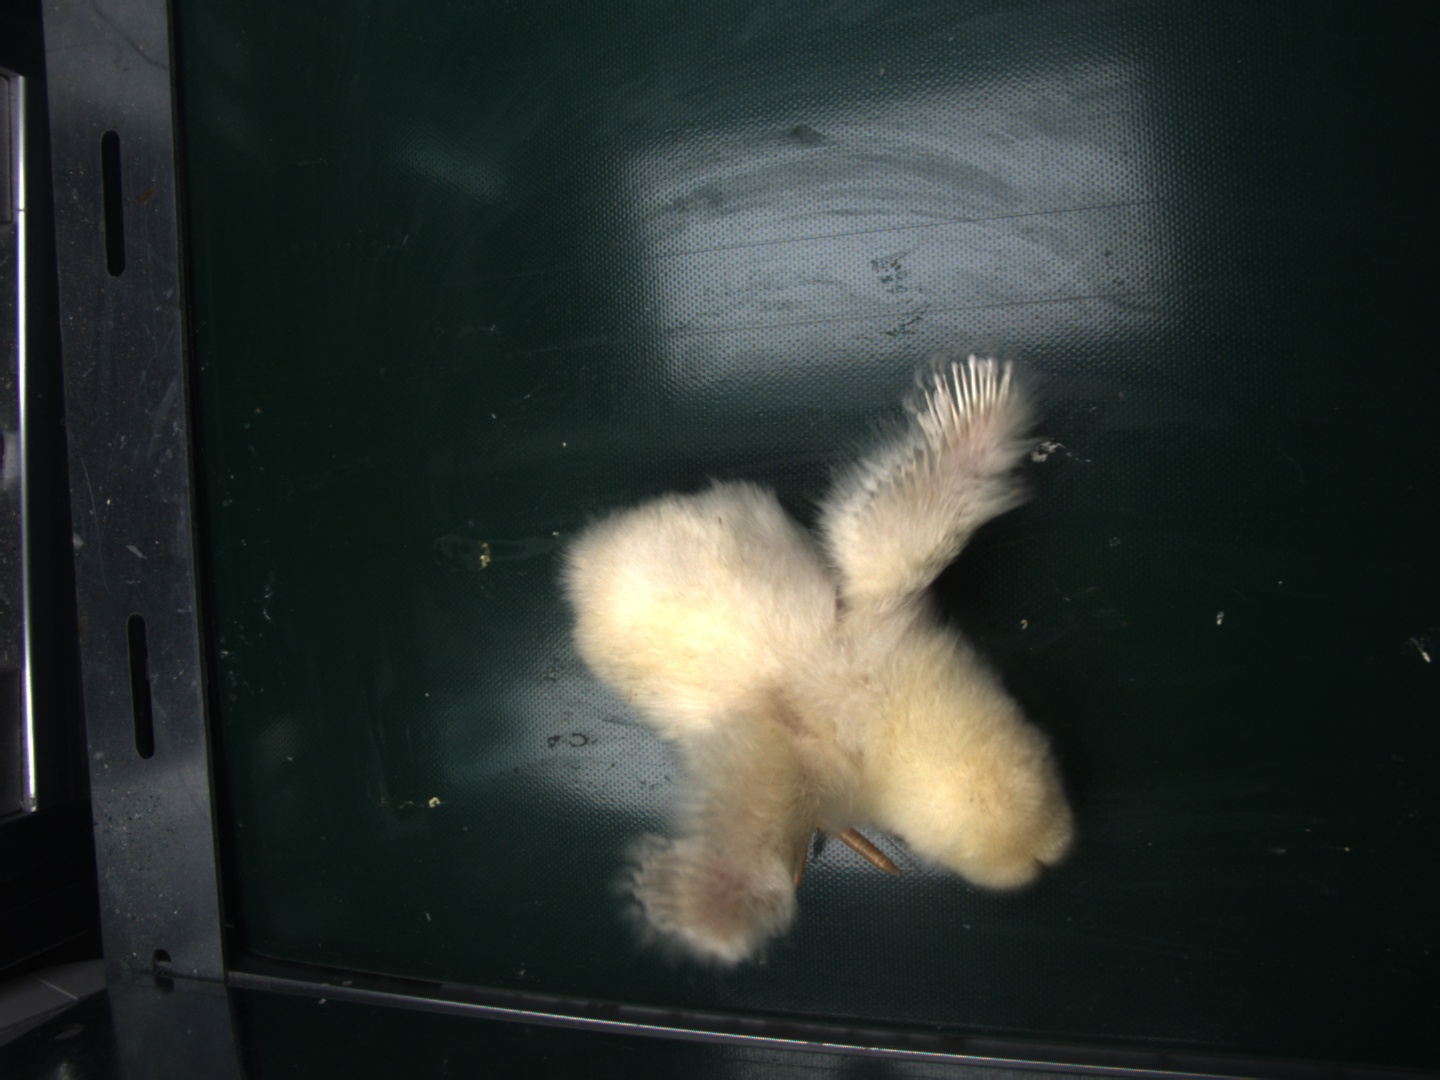male: (924, 351, 1015, 434)
